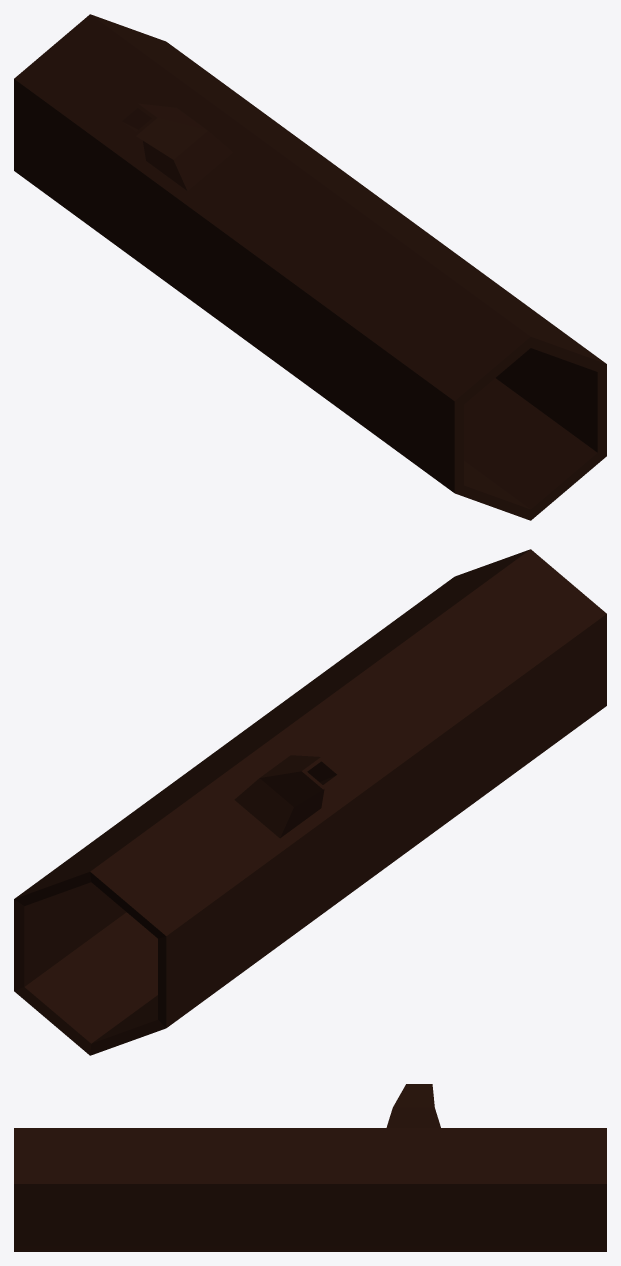
File: ArvoreCaida.fbx
3 renders of one model, top to bottom at view 1: azimuth 30°, elevation 25°; view 2: azimuth 150°, elevation 25°; view 3: azimuth 270°, elevation 25°, orthographic. The views are drawn at different scales.
Parts seen in each view (by area): view 1: Cylinder; view 2: Cylinder; view 3: Cylinder.
Boxes of the visible parts, x1,y1,x2,y2 form: Cylinder: (14, 14, 606, 520); Cylinder: (14, 549, 606, 1055); Cylinder: (14, 1084, 606, 1251).
Size of the model in its own units: 214 by 239 by 910.
